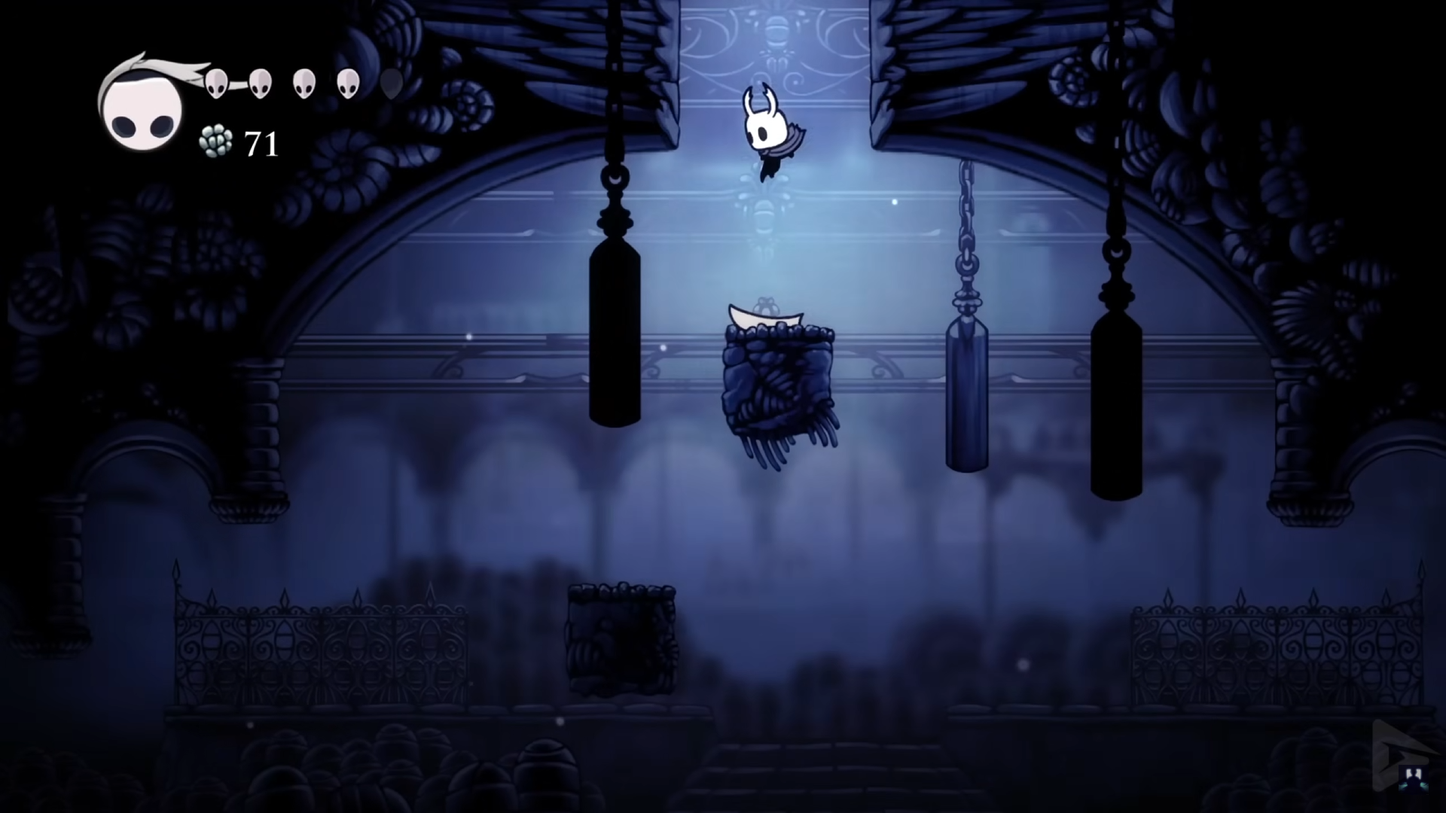HK: (738, 80, 804, 184)
